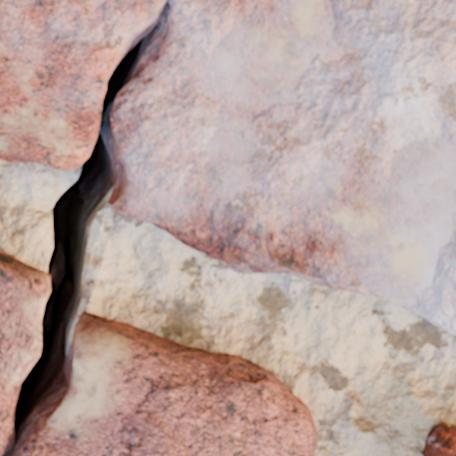brick: (423, 426, 455, 455)
broken_brick: (108, 0, 455, 335), (18, 311, 317, 455), (0, 0, 164, 171), (0, 251, 48, 453)
crack: (0, 0, 172, 455)
